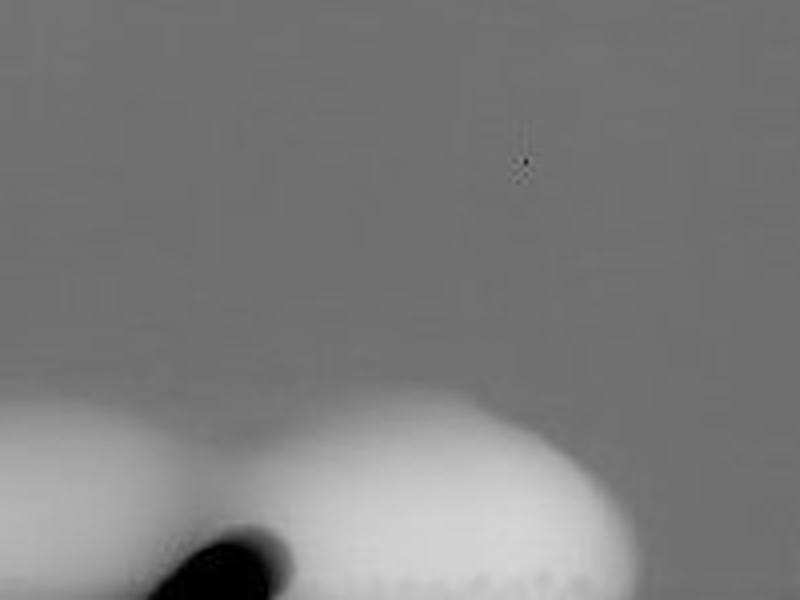defect: (148, 541, 277, 600), (521, 155, 532, 171)
